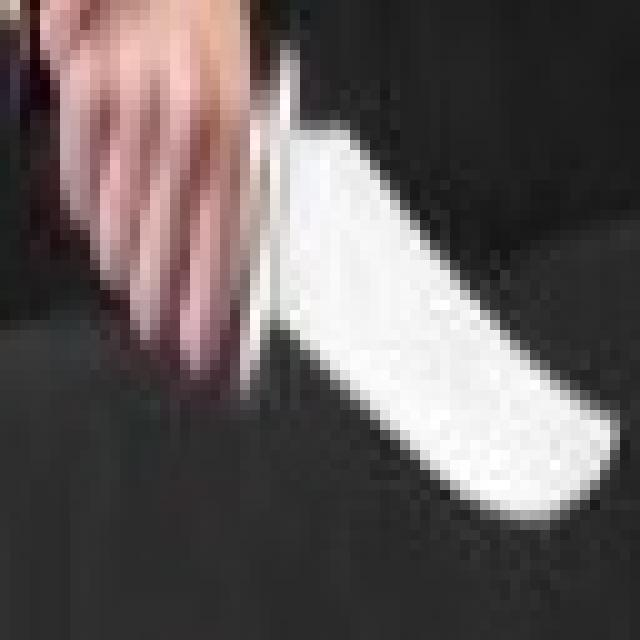knife: (43, 45, 620, 562)
